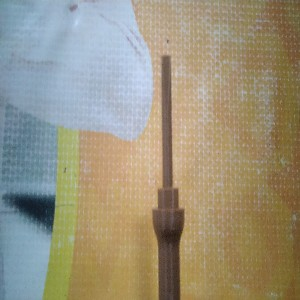obeng: (151, 54, 185, 300)
